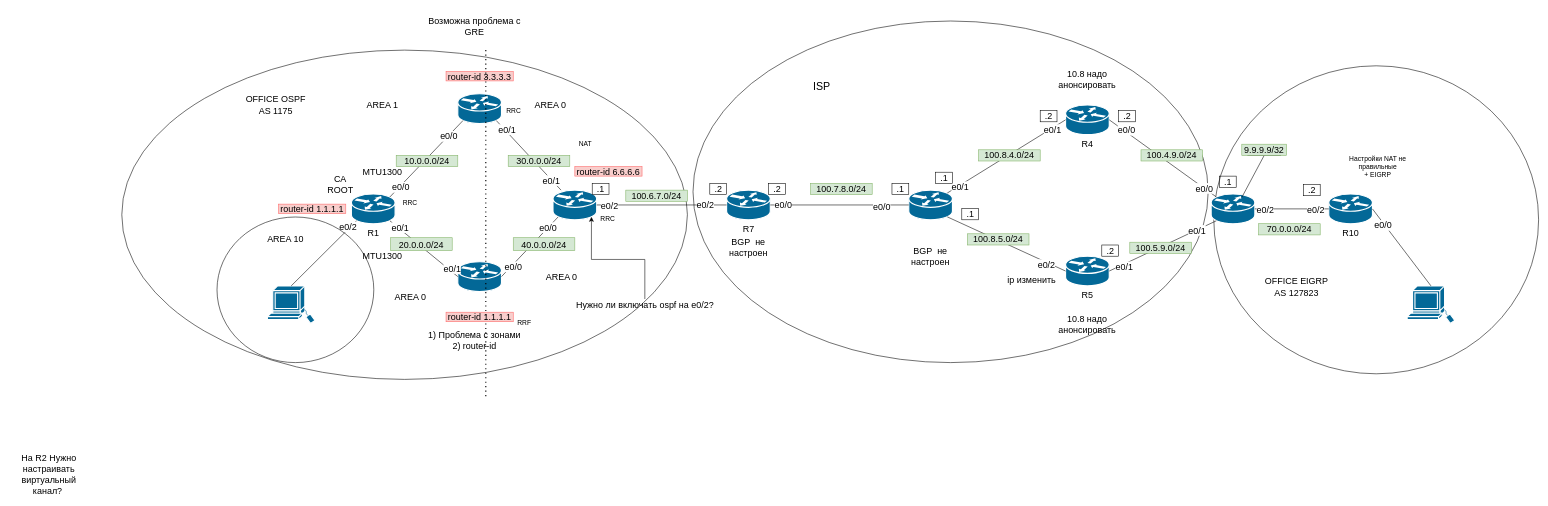
Image size: 1548x506. Some labels were removed from this diagram. The box of each missing label's shape, as (x1, y1, x2, y2) in pixels:
R2: (457, 261, 502, 292)
R3: (457, 93, 502, 124)
R6: (552, 189, 597, 220)
R8: (908, 189, 953, 220)
R9: (1210, 193, 1255, 224)
VPC11 192.168.1.10/24: (267, 285, 315, 324)
VPC12: (1406, 285, 1455, 324)
